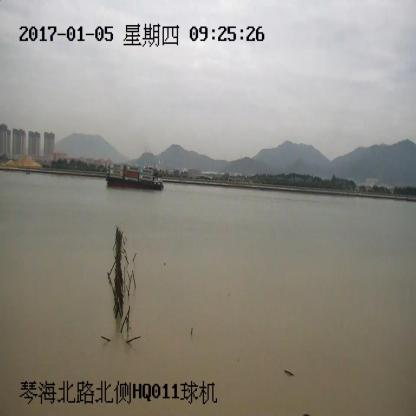Container Ship: (106, 164, 162, 190)
